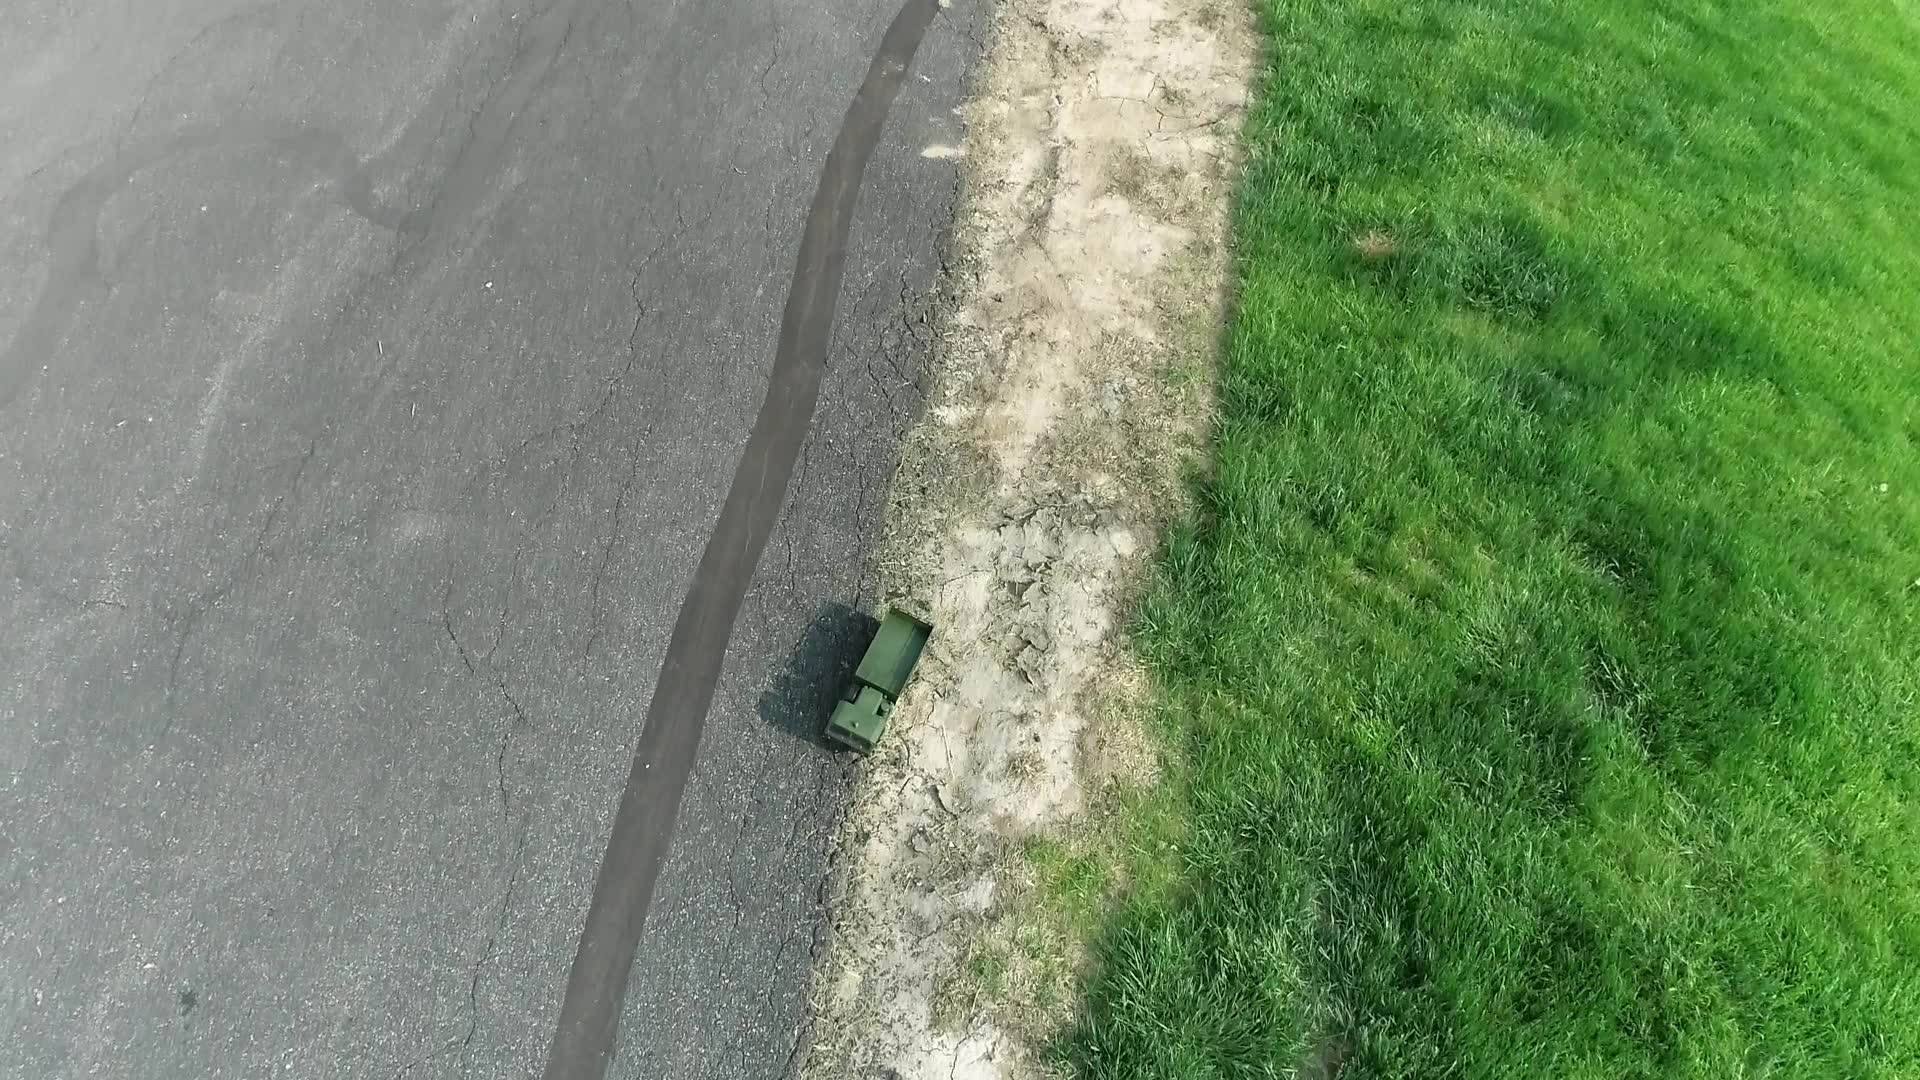transporter9: (818, 597, 943, 760)
